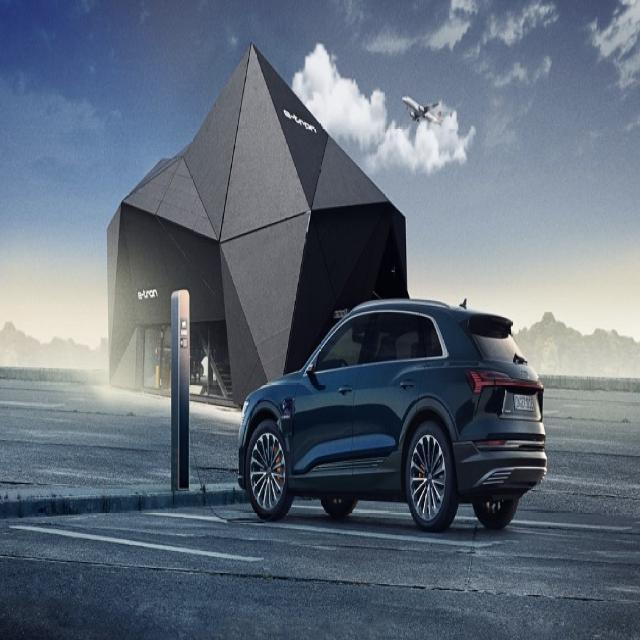yolov7-seg-car: (238, 298, 548, 532)
